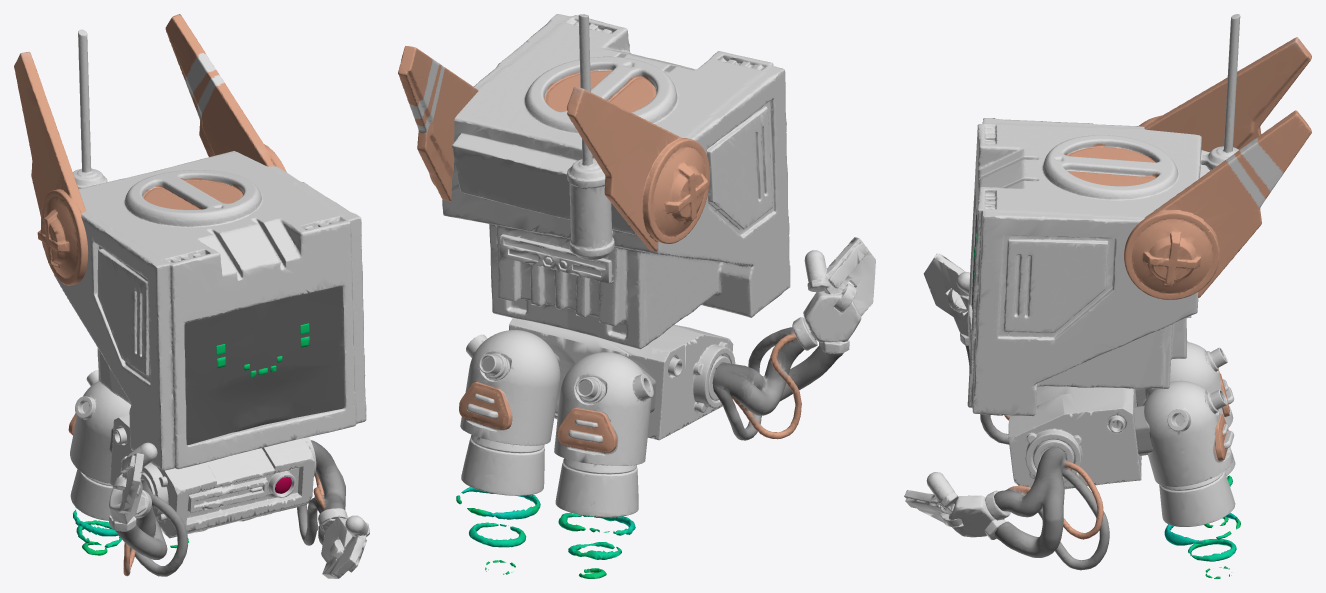
Rendered from robodrone.glb.
The picture shows the model from 3 angles, left to right: view 1: azimuth 30°, elevation 25°; view 2: azimuth 150°, elevation 25°; view 3: azimuth 270°, elevation 25°; orthographic projection. The views are drawn at different scales.
Parts seen in each view (by area): view 1: head, faceplate, fins, body, wre, rockets, Lhnd, Rhnd, emiss; view 2: head, rockets, fins, body, wre, Rhnd, emiss; view 3: head, fins, rockets, body, wre, Lhnd, Rhnd, emiss.
Boxes of the visible parts, x1=… form: head: x1=53, y1=29, x2=366, y2=470; faceplate: x1=184, y1=286, x2=344, y2=445; fins: x1=14, y1=14, x2=286, y2=285; body: x1=110, y1=415, x2=316, y2=538; wre: x1=115, y1=440, x2=345, y2=576; rockets: x1=68, y1=370, x2=130, y2=520; Lhnd: x1=318, y1=508, x2=369, y2=578; Rhnd: x1=109, y1=442, x2=157, y2=531; emiss: x1=73, y1=323, x2=309, y2=555; head: x1=442, y1=14, x2=790, y2=349; rockets: x1=459, y1=330, x2=656, y2=517; fins: x1=398, y1=46, x2=709, y2=251; body: x1=509, y1=318, x2=735, y2=440; wre: x1=712, y1=327, x2=843, y2=440; Rhnd: x1=792, y1=237, x2=875, y2=353; emiss: x1=456, y1=487, x2=635, y2=578; head: x1=967, y1=14, x2=1240, y2=416; fins: x1=1124, y1=37, x2=1311, y2=299; rockets: x1=1134, y1=340, x2=1235, y2=526; body: x1=1008, y1=386, x2=1141, y2=489; wre: x1=965, y1=345, x2=1109, y2=570; Lhnd: x1=904, y1=472, x2=1010, y2=539; Rhnd: x1=923, y1=253, x2=969, y2=345; emiss: x1=973, y1=233, x2=1240, y2=578.
Size of the model in its own units: 1.05 by 1.88 by 1.34.
